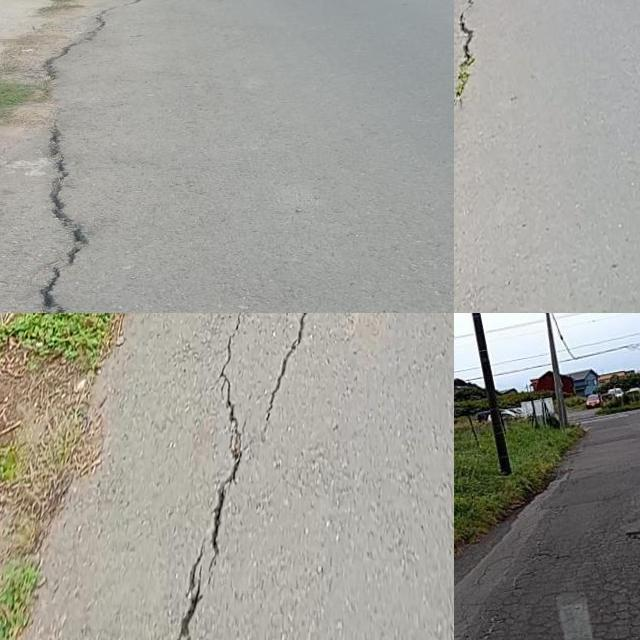Memanjang: (25, 0, 154, 313), (159, 313, 260, 640), (254, 313, 311, 440), (454, 0, 490, 197)
